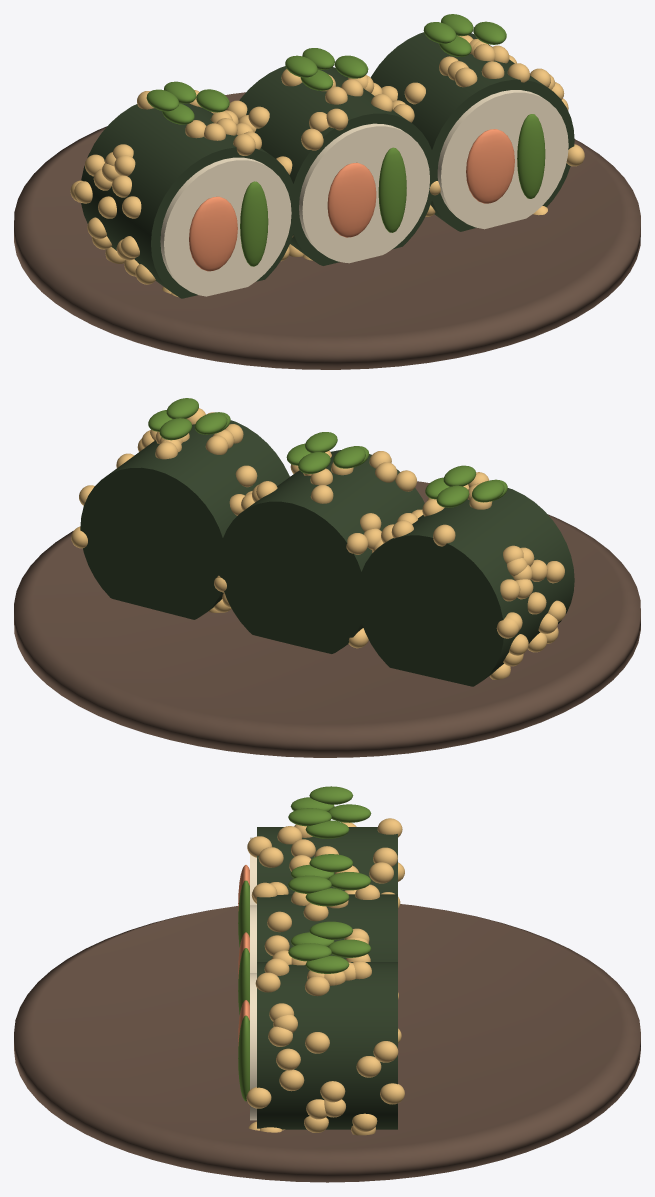
Rendered from 35-shrimp-roll.glb.
The picture shows the model from 3 angles, top to bottom: view 1: azimuth 30°, elevation 25°; view 2: azimuth 150°, elevation 25°; view 3: azimuth 270°, elevation 25°; orthographic projection.
Parts seen in each view (by area): view 1: 크런치 새우롤; view 2: 크런치 새우롤; view 3: 크런치 새우롤.
Part boxes in pixels (<box>): 크런치 새우롤: <box>14,14,640,369</box>; 크런치 새우롤: <box>14,398,640,757</box>; 크런치 새우롤: <box>14,786,640,1182</box>.
Bounding box in the file's own units: 2 × 0.701 × 2.
